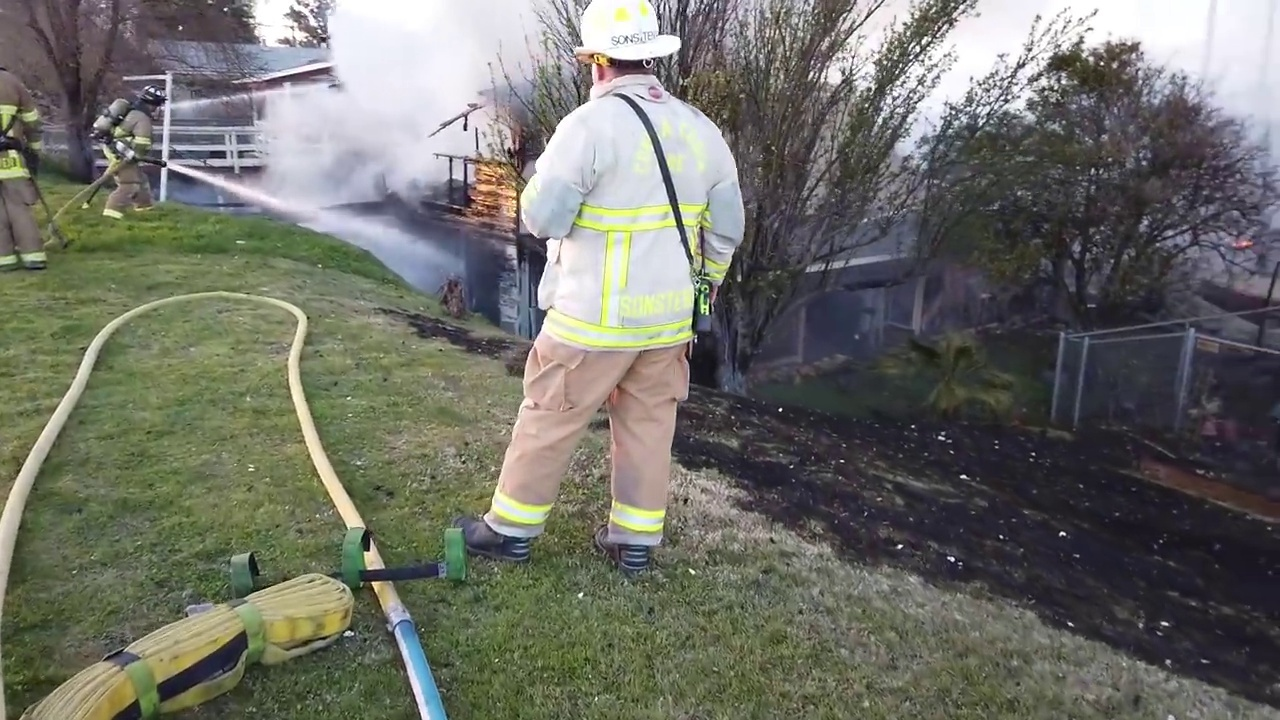smoke: (258, 1, 489, 200), (1199, 0, 1279, 233)
